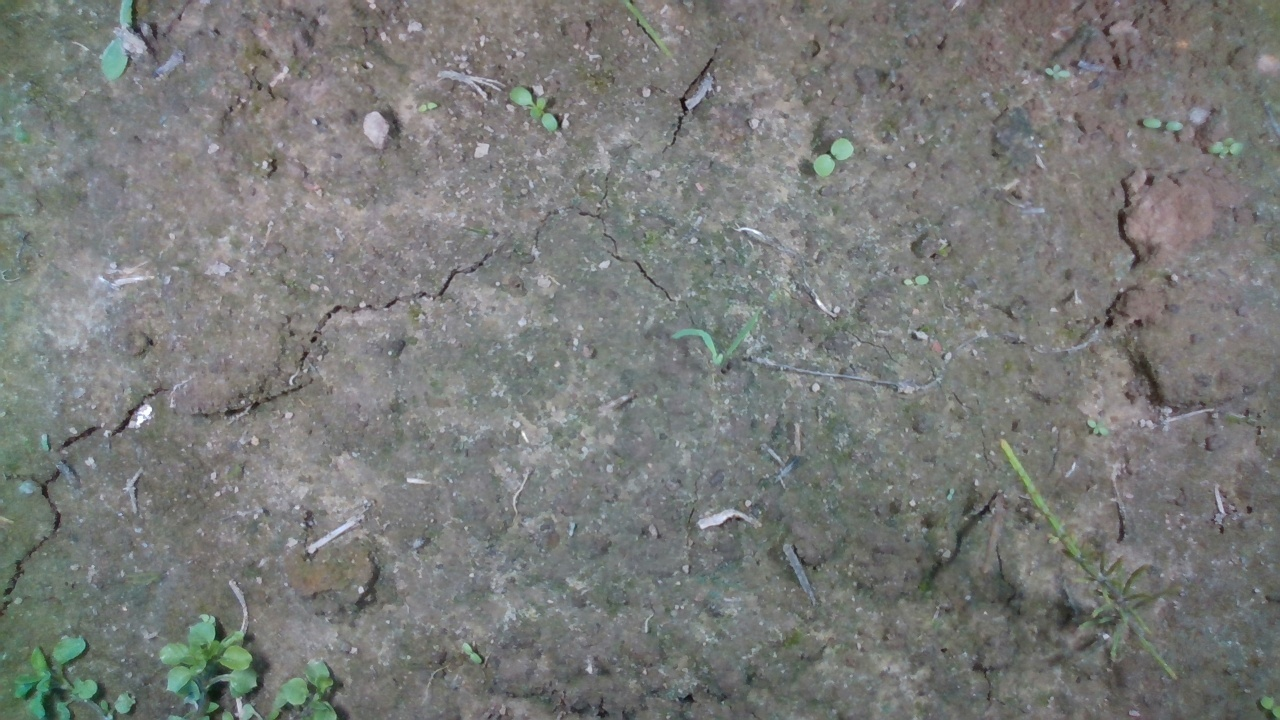weed: (505, 85, 559, 132), (811, 136, 855, 177), (1207, 135, 1245, 160), (1140, 115, 1184, 131), (1043, 62, 1071, 83)
